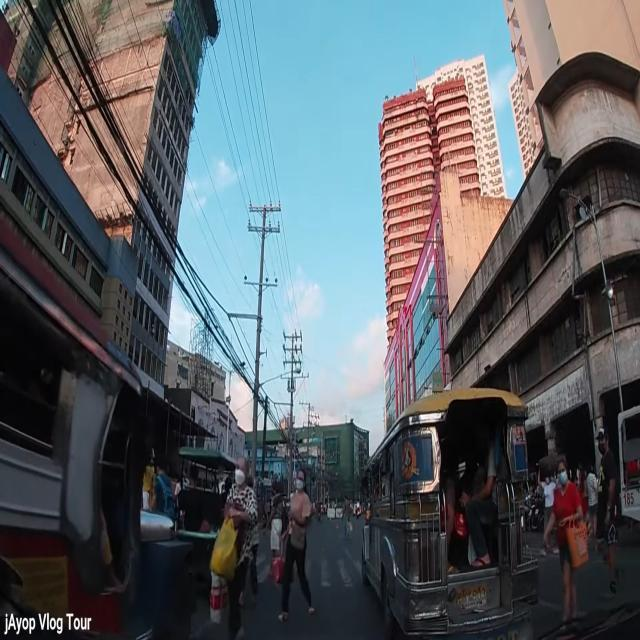jeepney: (0, 185, 197, 640), (360, 391, 540, 640)
tricycle: (176, 444, 236, 537)
